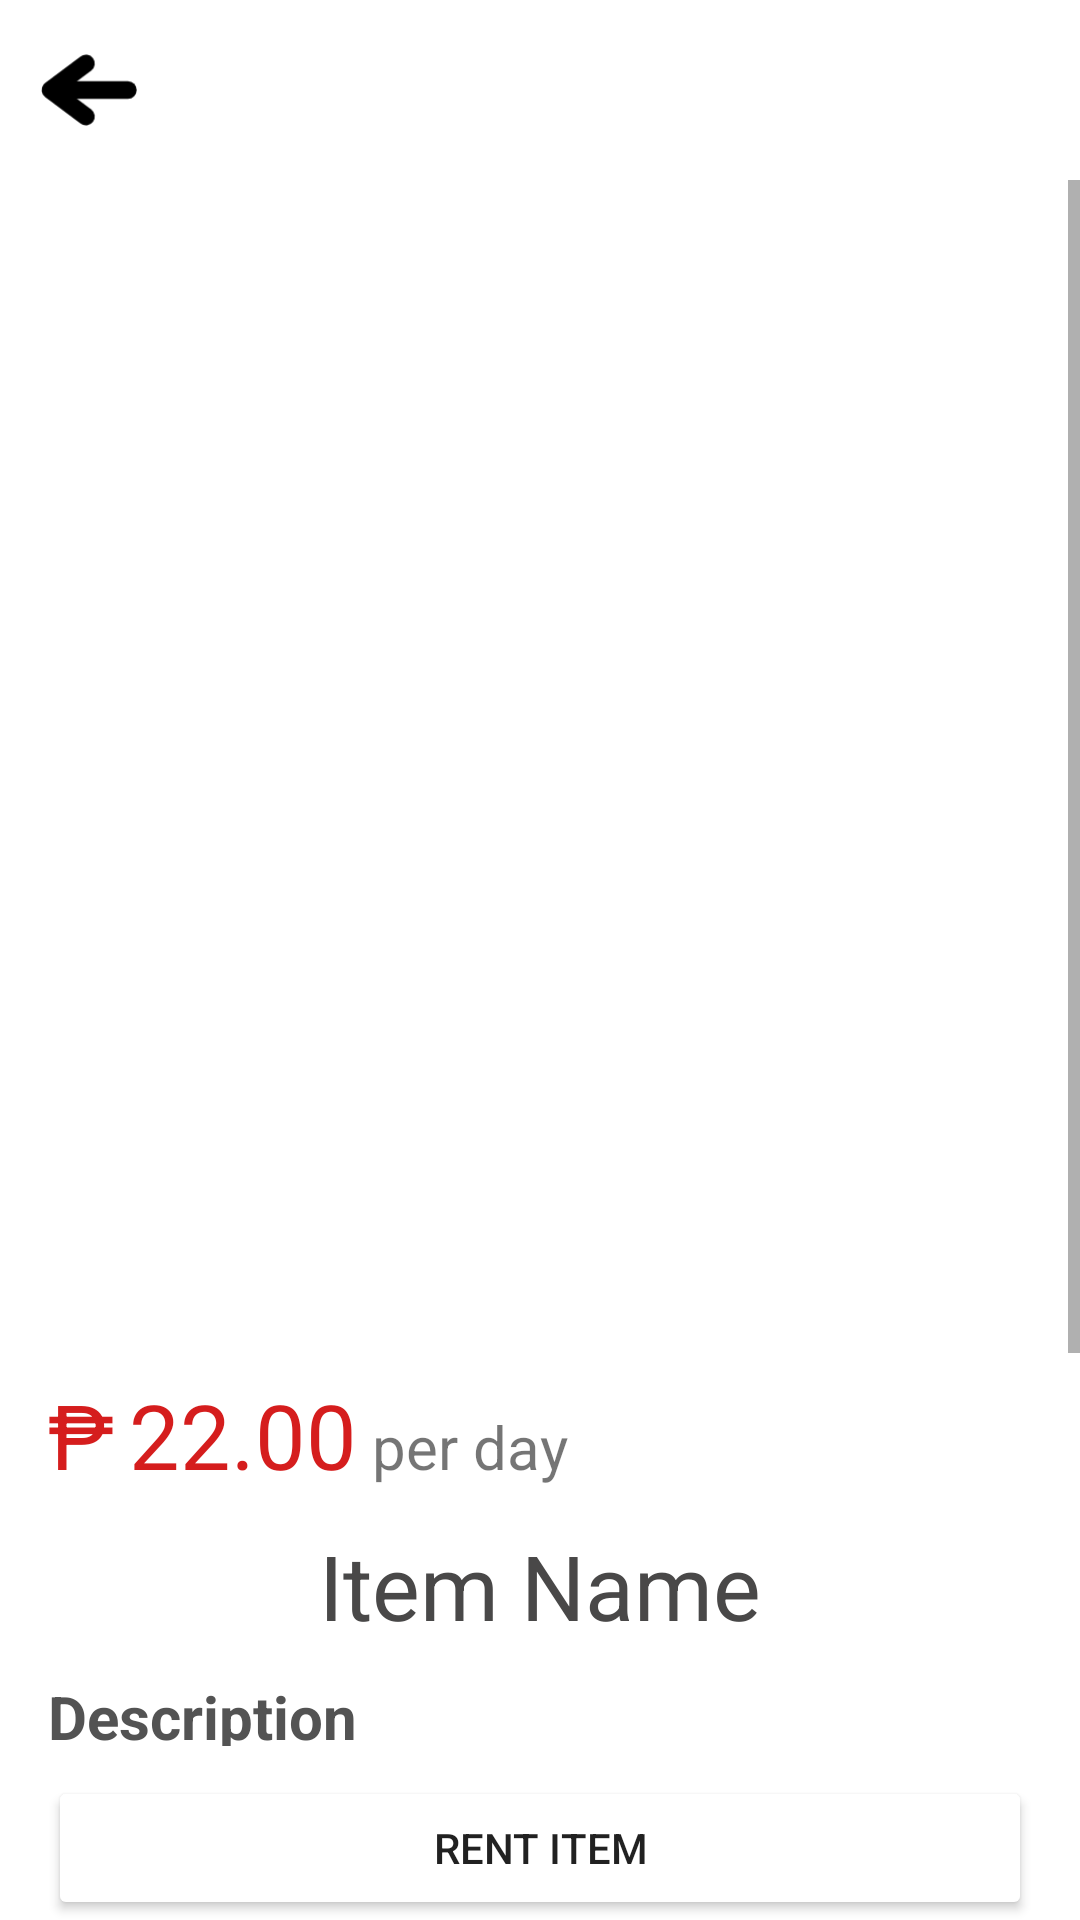

Named icons in this screenshot (1080×1920) and their centers, point (x, y):
back arrow: point (89, 90)
